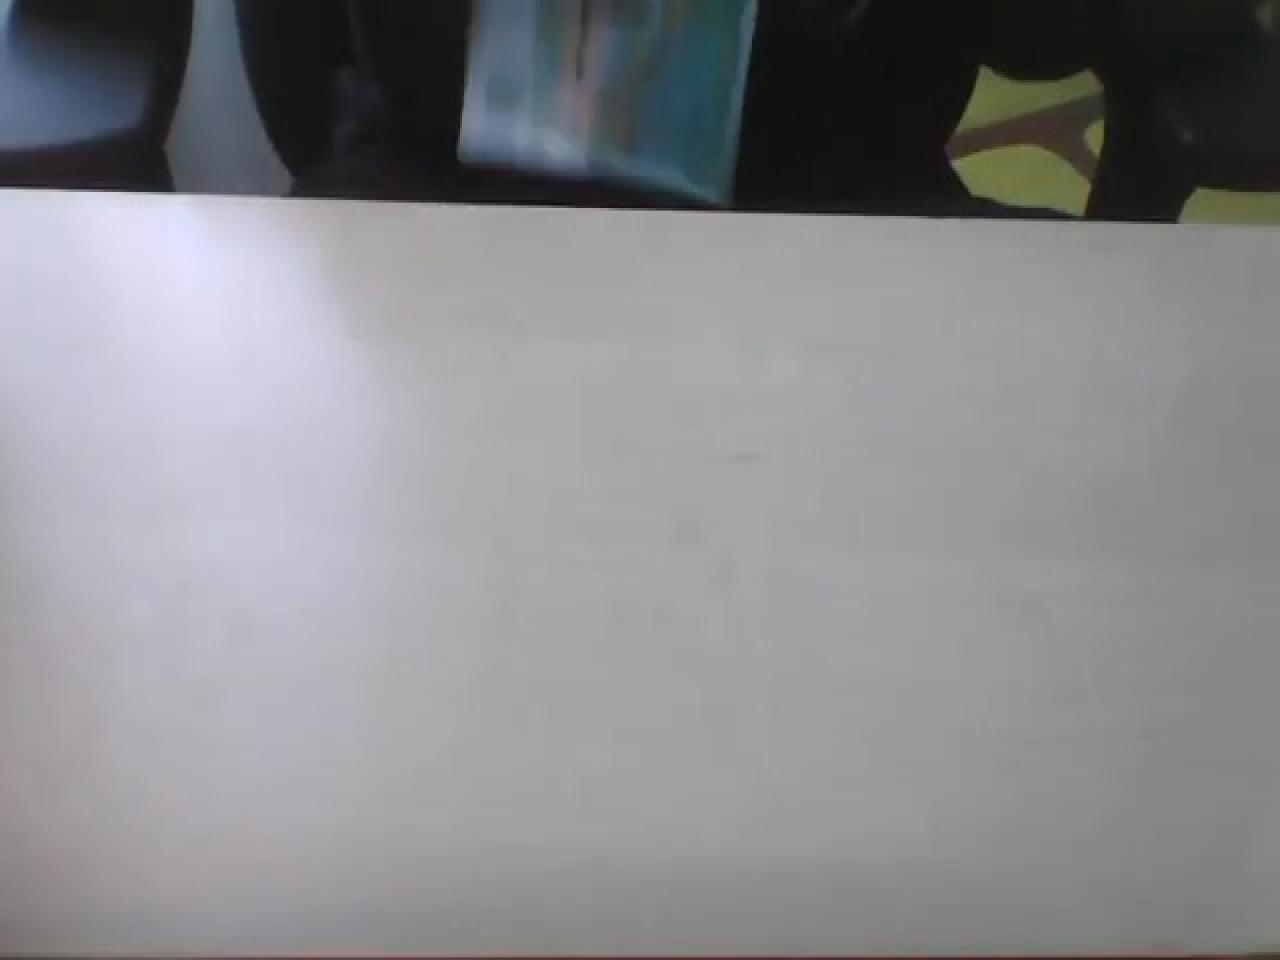100leva: (2, 178, 1276, 952), (4, 0, 1274, 219)
